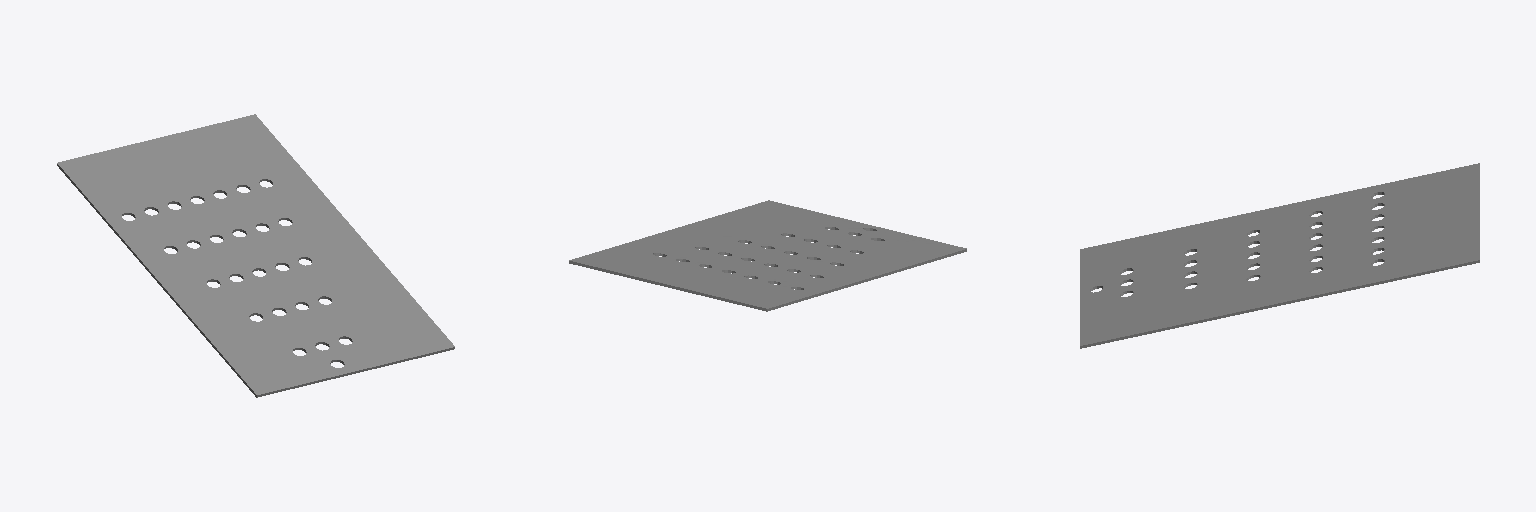
The model's file is bingo.obj.
The picture shows the model from 3 angles: view 1: azimuth 30°, elevation 25°; view 2: azimuth 150°, elevation 25°; view 3: azimuth 270°, elevation 25°; orthographic projection.
Parts seen in each view (by area): view 1: Box001; view 2: Box001; view 3: Box001.
Part boxes in pixels (bbox=[...]): Box001: bbox=[57, 114, 454, 397]; Box001: bbox=[569, 200, 966, 311]; Box001: bbox=[1080, 163, 1479, 348].
Size of the model in its own units: 37.39 by 15.98 by 65.36.